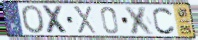0: (100, 6, 121, 36)
C: (152, 6, 177, 36)
O: (20, 4, 46, 35)
X: (123, 5, 156, 36), (41, 4, 71, 35), (71, 5, 98, 35)
